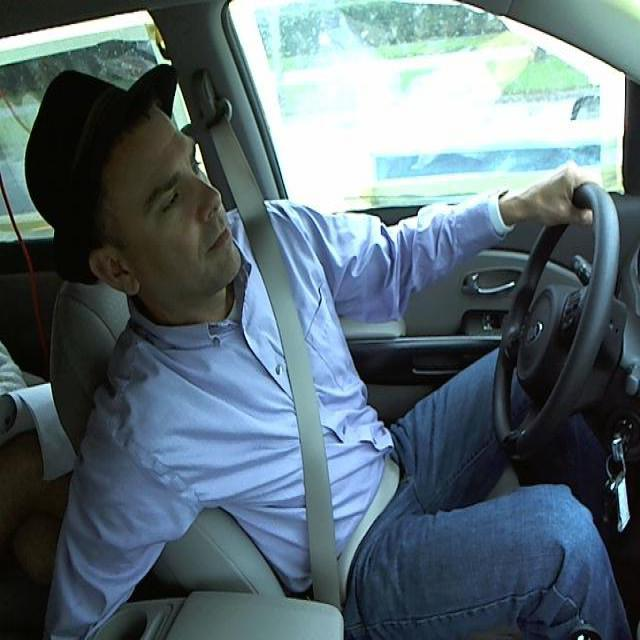seatbelt: (240, 237, 398, 576)
